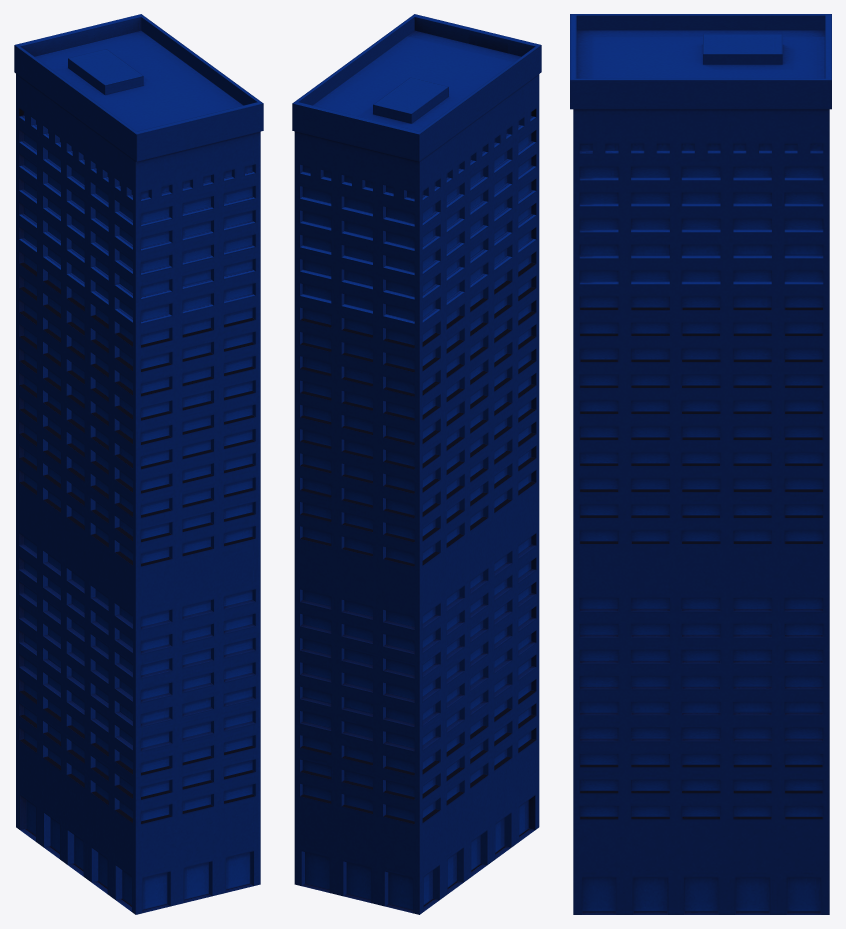
Rendered from 450_park_on_03.glb.
3 views of the same model, side by side, from view 1: azimuth 30°, elevation 25°; view 2: azimuth 150°, elevation 25°; view 3: azimuth 270°, elevation 25° (orthographic). The views are drawn at different scales.
Visible parts, largest first — view 1: Empty_Mesh; view 2: Empty_Mesh; view 3: Empty_Mesh.
Part boxes in pixels (x1,y1,x2,y2): Empty_Mesh: (14, 14, 263, 914); Empty_Mesh: (292, 14, 541, 914); Empty_Mesh: (570, 14, 831, 914).
Bounding box in the file's own units: 3.43 × 20.12 × 5.71.
1 material, 1 textured.
